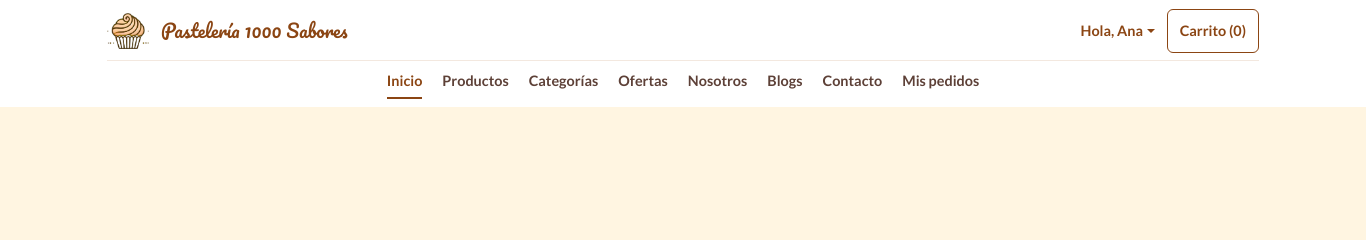
Test case: Acceso según el rol › muestra el acceso al panel al Administrador al abrir su cuenta
What coordinates should you click on to do the following:
click the button "Hola, Ana"
I would click on:
 (1118, 31)
Its box is [1080,15,1155,47].
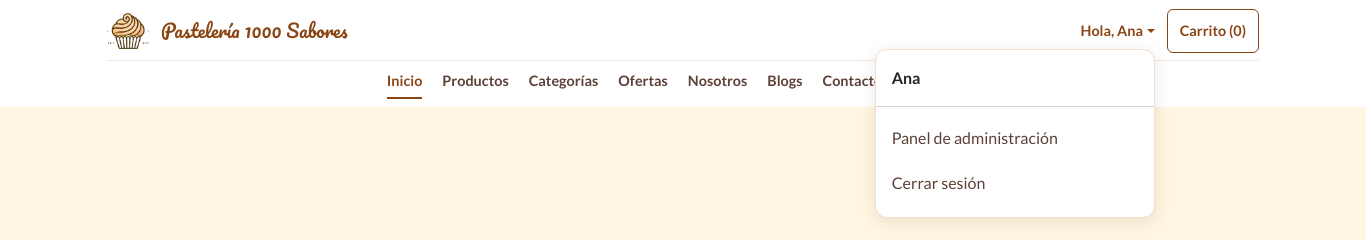
Check: the link "Panel de administración" is shown, box [892,128,1058,147]
